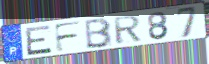7: (176, 6, 198, 39)
8: (146, 11, 170, 42)
B: (85, 17, 114, 50)
E: (24, 24, 54, 57)
F: (52, 20, 83, 54)
R: (112, 15, 143, 46)
